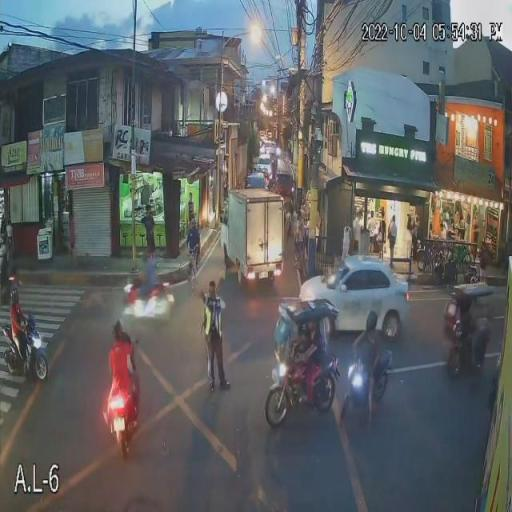helmet: (365, 310, 380, 330), (8, 288, 21, 301)
motorcycle: (263, 318, 339, 428), (440, 283, 496, 382), (342, 345, 394, 427), (100, 364, 142, 460), (0, 310, 50, 384), (121, 279, 175, 327)
rider: (106, 320, 140, 406), (351, 311, 389, 379), (284, 328, 322, 386), (8, 289, 34, 354), (130, 252, 163, 302)
